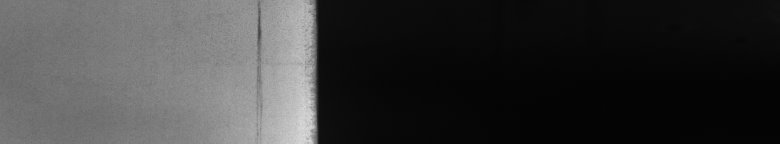hd: (252, 4, 267, 111)
